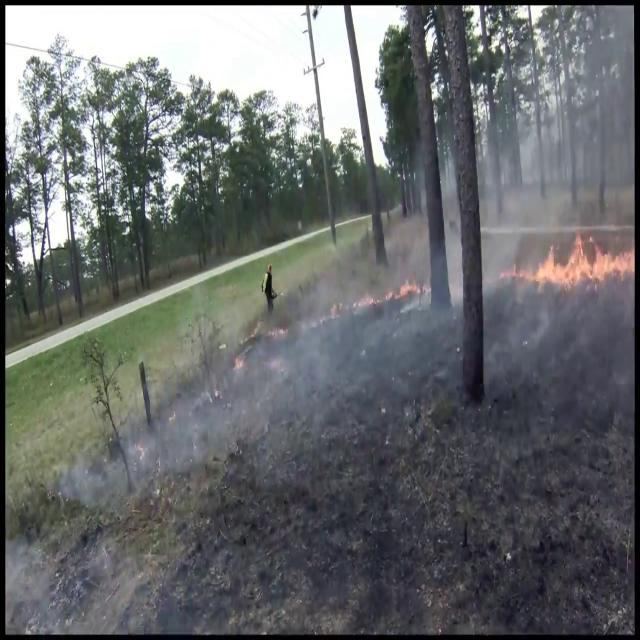Fire: (508, 224, 634, 292)
Smoke: (430, 54, 640, 326)
